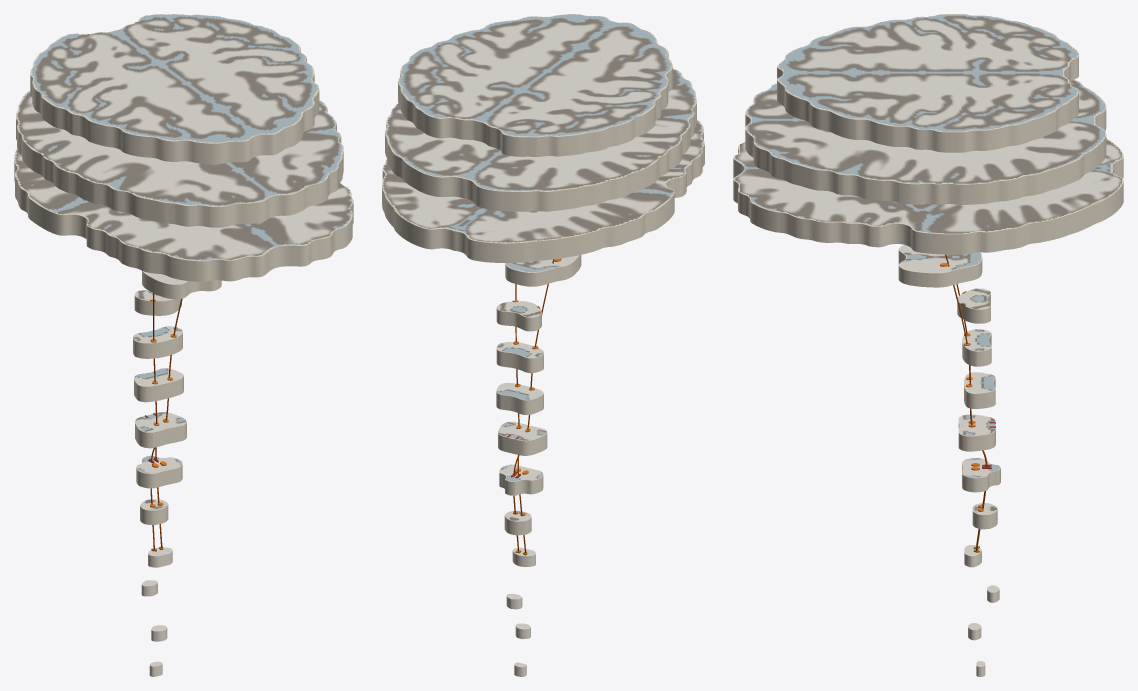
The picture shows the model from 3 angles, left to right: view 1: azimuth 30°, elevation 25°; view 2: azimuth 150°, elevation 25°; view 3: azimuth 270°, elevation 25°; orthographic projection. The views are drawn at different scales.
Parts seen in each view (by area): view 1: L15·切面（灰白质）, L14·切面（灰白质）, L13·切面（灰白质）, L13·背景·丘脑内囊, L14·背景·放射冠, L15·背景·皮质上部, L11·背景·下丘, L07·背景·橄榄中部, L09·背景·脑桥中部, L08·背景·脑桥下部, L06·背景·丘系交叉, L10·背景·脑桥上部 (+4 smaller); view 2: L15·切面（灰白质）, L14·切面（灰白质）, L13·切面（灰白质）, L13·背景·丘脑内囊, L14·背景·放射冠, L15·背景·皮质上部, L11·背景·下丘, L07·背景·橄榄中部, L09·背景·脑桥中部, L08·背景·脑桥下部, L10·背景·脑桥上部, L06·背景·丘系交叉 (+4 smaller); view 3: L15·切面（灰白质）, L14·切面（灰白质）, L13·切面（灰白质）, L13·背景·丘脑内囊, L14·背景·放射冠, L15·背景·皮质上部, L11·背景·下丘, L11·切面（灰白质）, L07·背景·橄榄中部, L07·切面（灰白质）, L06·背景·丘系交叉.
Boxes of the visible parts, x1,y1,x2,y2 form: L15·切面（灰白质）: [31, 14, 318, 142]; L14·切面（灰白质）: [17, 91, 342, 206]; L13·切面（灰白质）: [15, 150, 352, 260]; L13·背景·丘脑内囊: [14, 148, 353, 281]; L14·背景·放射冠: [16, 91, 343, 227]; L15·背景·皮质上部: [30, 14, 319, 164]; L11·背景·下丘: [142, 271, 221, 299]; L07·背景·橄榄中部: [135, 413, 186, 448]; L09·背景·脑桥中部: [133, 329, 182, 358]; L08·背景·脑桥下部: [134, 373, 183, 402]; L06·背景·丘系交叉: [136, 458, 182, 488]; L10·背景·脑桥上部: [134, 293, 181, 315]; L15·切面（灰白质）: [399, 14, 671, 136]; L14·切面（灰白质）: [385, 68, 695, 191]; L13·切面（灰白质）: [383, 121, 703, 242]; L13·背景·丘脑内囊: [382, 119, 704, 263]; L14·背景·放射冠: [385, 68, 696, 211]; L15·背景·皮质上部: [398, 14, 672, 156]; L11·背景·下丘: [505, 255, 581, 286]; L07·背景·橄榄中部: [498, 423, 547, 455]; L09·背景·脑桥中部: [496, 344, 543, 373]; L08·背景·脑桥下部: [496, 384, 543, 415]; L10·背景·脑桥上部: [496, 301, 541, 331]; L06·背景·丘系交叉: [499, 467, 543, 495]; L15·切面（灰白质）: [779, 14, 1078, 131]; L14·切面（灰白质）: [747, 80, 1104, 183]; L13·切面（灰白质）: [735, 138, 1121, 233]; L13·背景·丘脑内囊: [733, 139, 1123, 254]; L14·背景·放射冠: [745, 79, 1106, 204]; L15·背景·皮质上部: [777, 14, 1078, 152]; L11·背景·下丘: [898, 245, 982, 287]; L11·切面（灰白质）: [900, 245, 980, 272]; L07·背景·橄榄中部: [958, 418, 995, 451]; L07·切面（灰白质）: [959, 414, 995, 435]; L06·背景·丘系交叉: [962, 460, 1000, 492].
Size of the model in its own units: 13.92 by 29.72 by 17.47.
